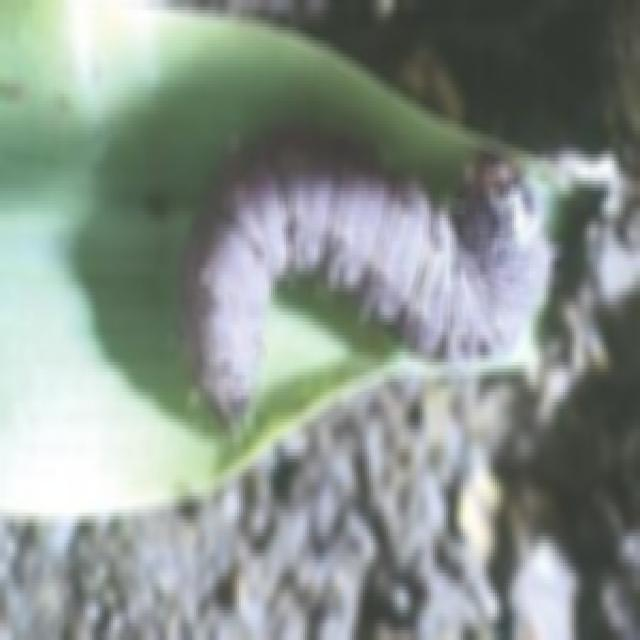black cutworm: (173, 139, 550, 427)
